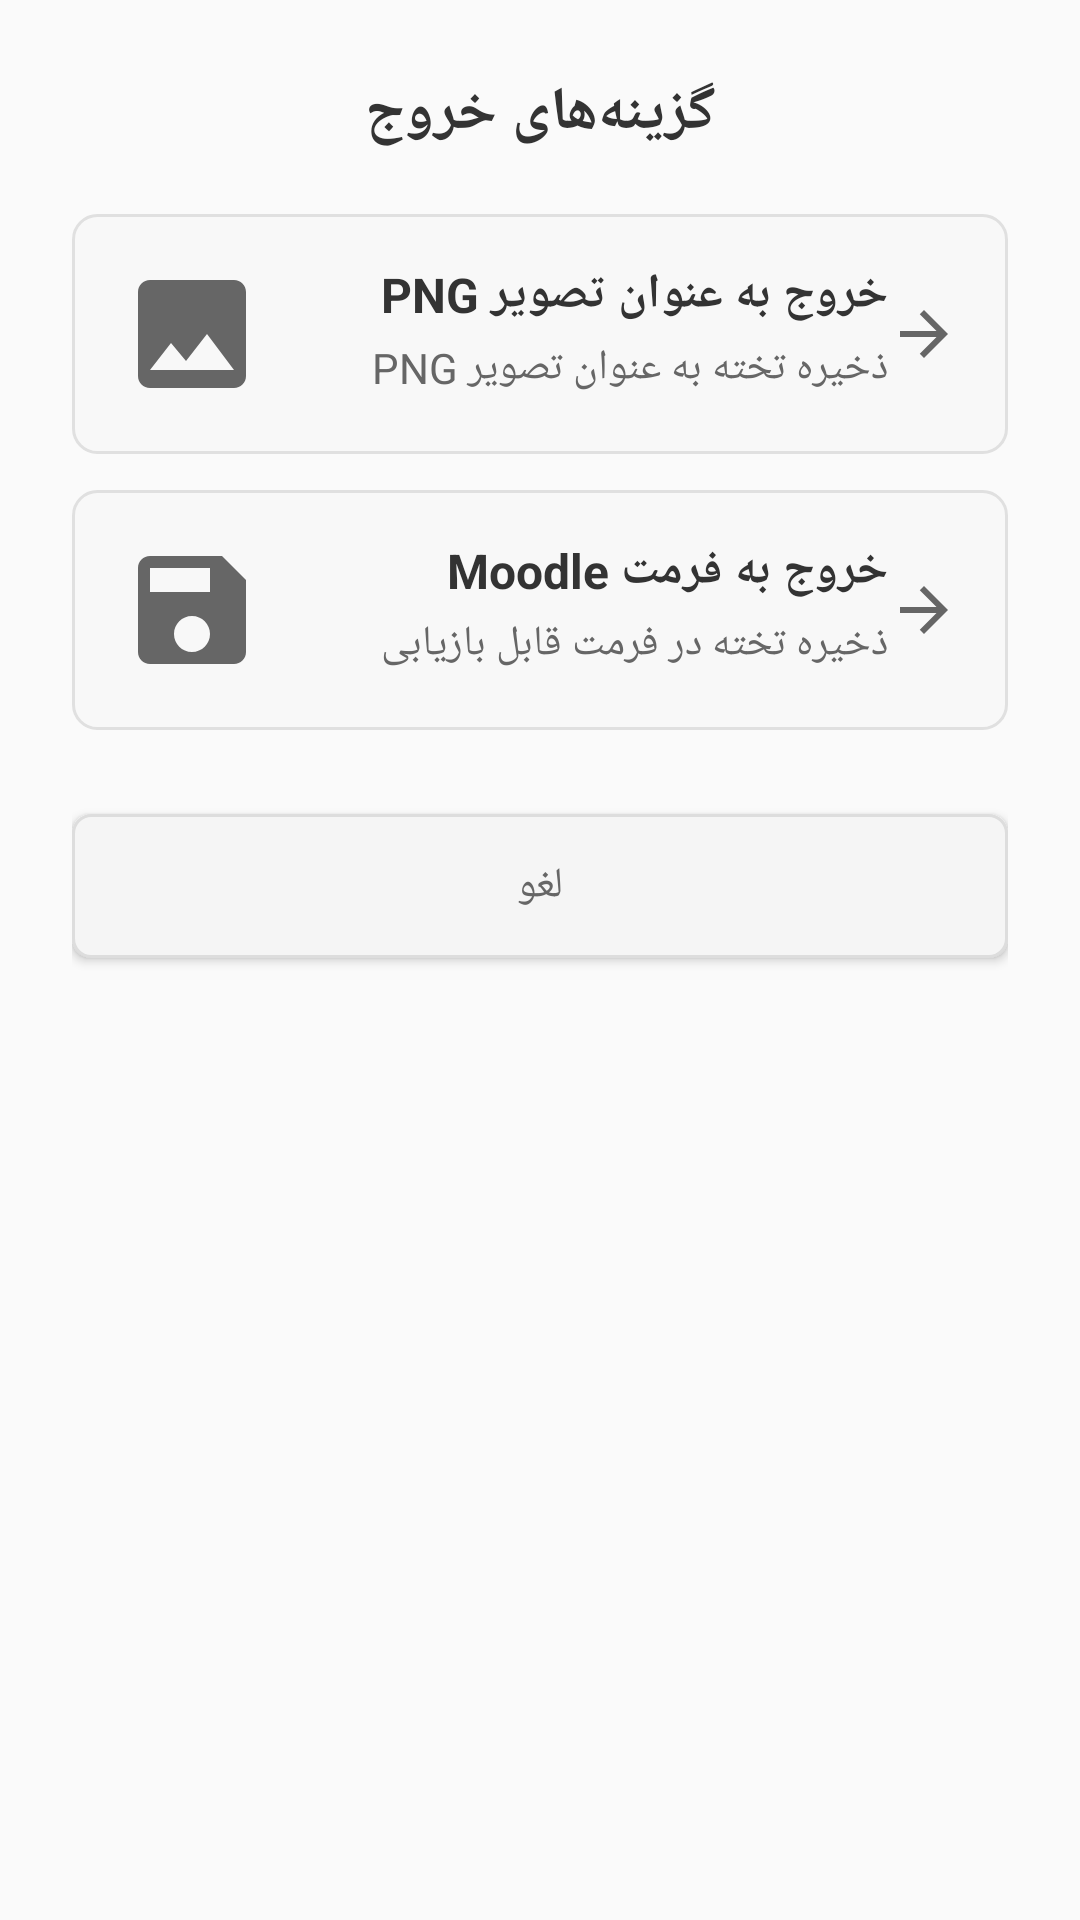

Named icons in this screenshot (1080x1920) and their bounding boxes, BBox(x1, y1, x2, y2):
arrow forward: BBox(900, 310, 948, 358), BBox(900, 586, 948, 634)
save: BBox(138, 556, 246, 664)
